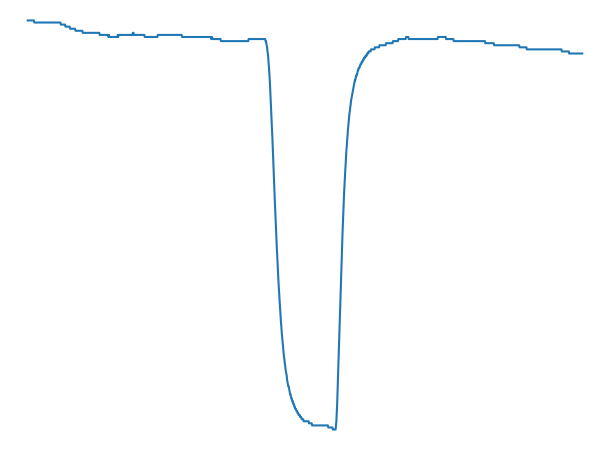decrease: (255, 32, 272, 47)
increase: (325, 415, 341, 434)
